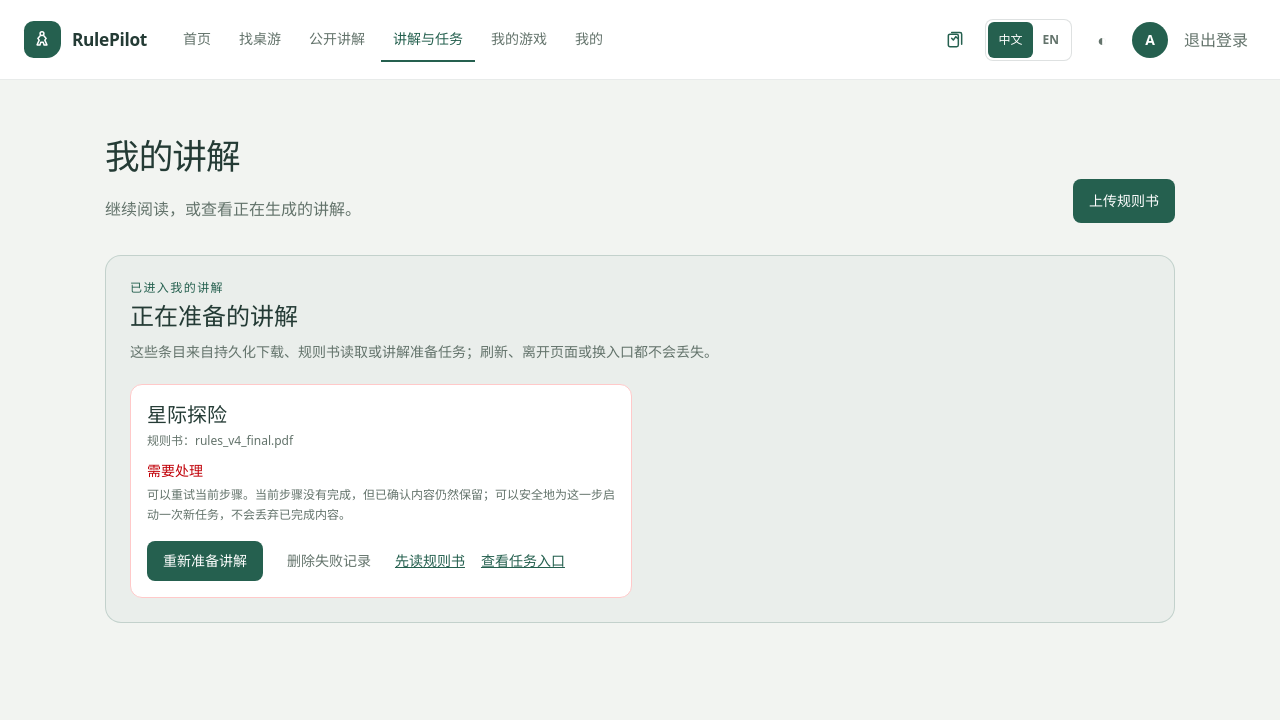
Test case: LessonsView › retries a failed local-upload guide through its durable upload handoff
Click the button "重新准备讲解". click: (205, 561)
box: [147,541,263,581]
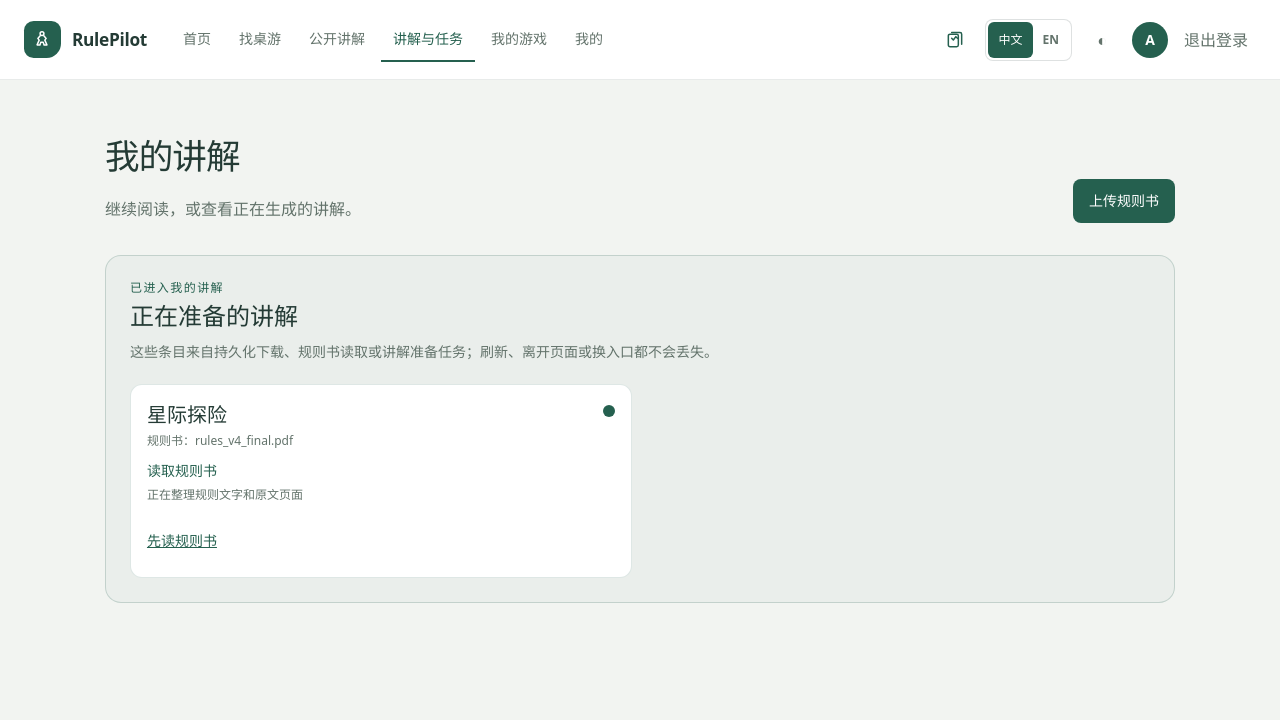
Now the text with test id "player-work-status" reads "读取规则书", box [147,461,217,480]
